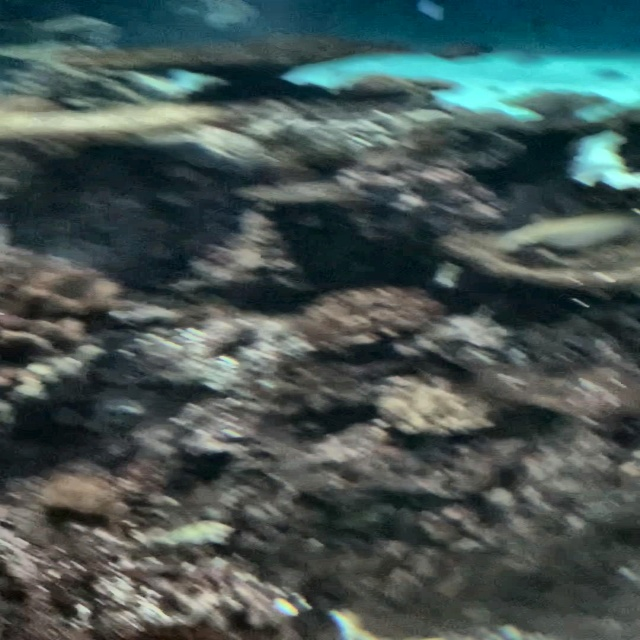fish: (494, 209, 639, 263)
